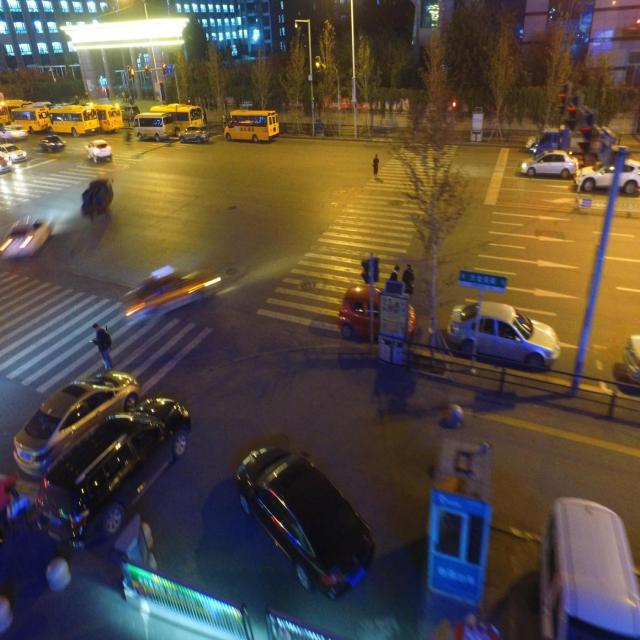car: (35, 396, 191, 550), (235, 443, 375, 601), (12, 370, 140, 479), (447, 300, 561, 370), (338, 284, 417, 343), (573, 158, 640, 194), (520, 149, 579, 179), (85, 139, 112, 163), (179, 125, 210, 144), (40, 134, 66, 152)
person: (90, 322, 113, 372), (402, 263, 414, 294), (389, 265, 400, 281), (372, 154, 379, 179)
